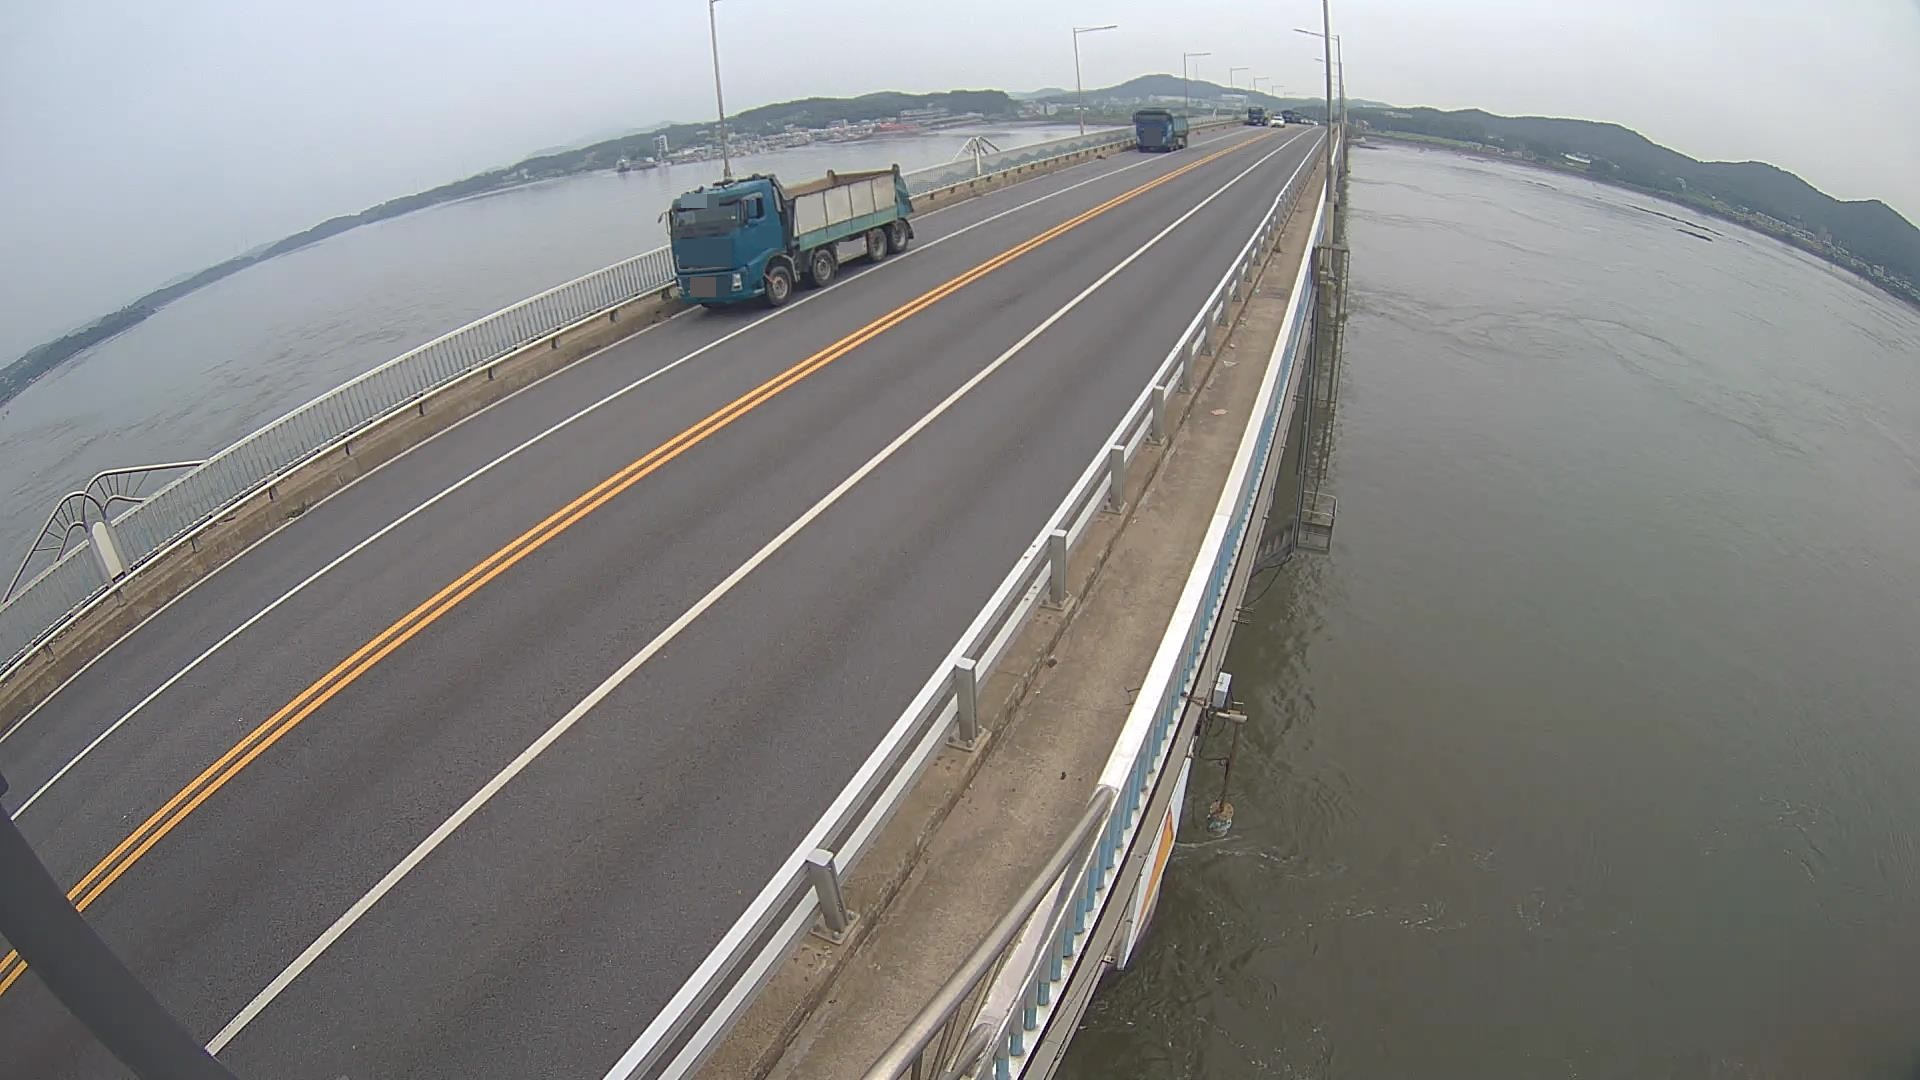정상차량: (658, 164, 914, 314)
